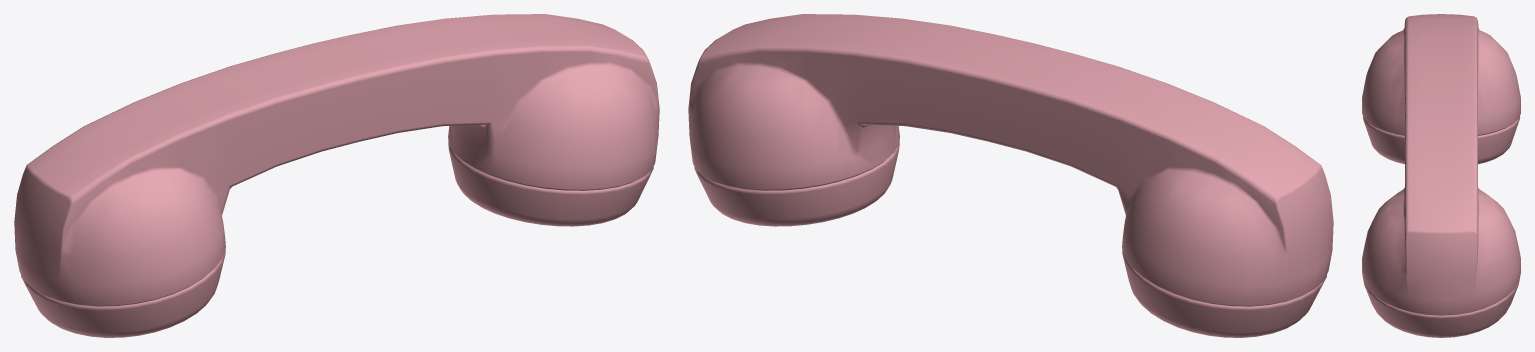
The model's file is phone_top.fbx.
The picture shows the model from 3 angles, left to right: view 1: azimuth 30°, elevation 25°; view 2: azimuth 150°, elevation 25°; view 3: azimuth 270°, elevation 25°; orthographic projection. The views are drawn at different scales.
Visible parts, largest first — view 1: Cube.001; view 2: Cube.001; view 3: Cube.001.
Boxes of the visible parts, x1,y1,x2,y2 form: Cube.001: (14,14,659,337); Cube.001: (688,14,1333,337); Cube.001: (1362,14,1520,337).
Bounding box in the file's own units: 27.81 × 8.53 × 8.2.
